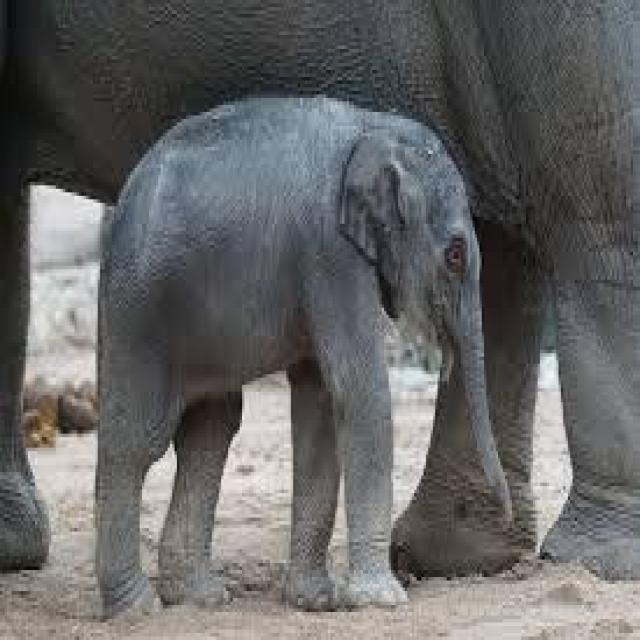Elephant: (90, 87, 516, 619)
